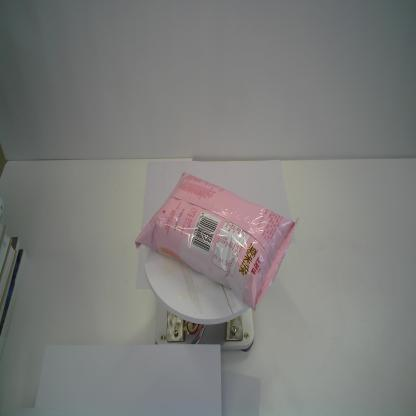Puffed Food: (134, 170, 300, 313)
